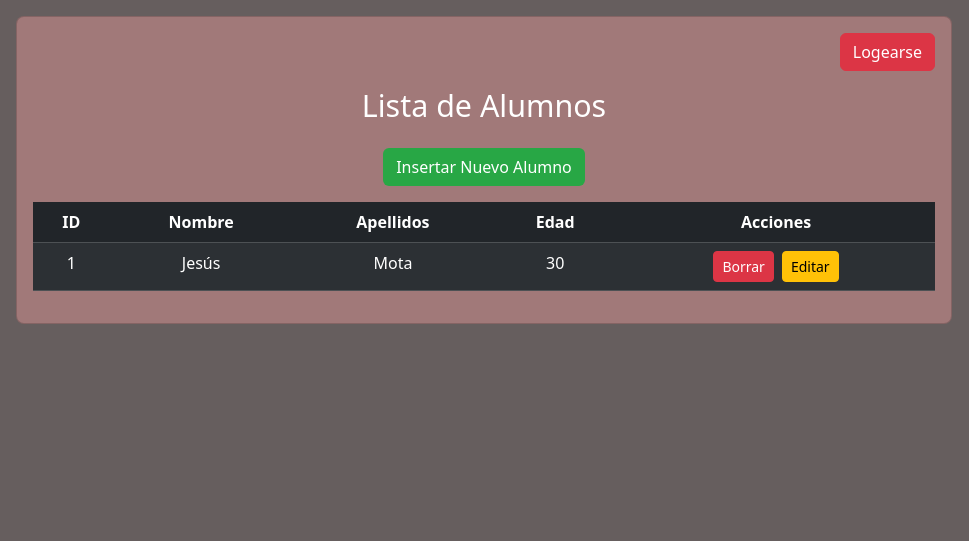
Test: Personas component › permite abrir el formulario de edición
Expected: the text "Jesús" is shown, [110, 242, 292, 290]
Click the button "Editar" at (810, 266), box [782, 250, 839, 282]
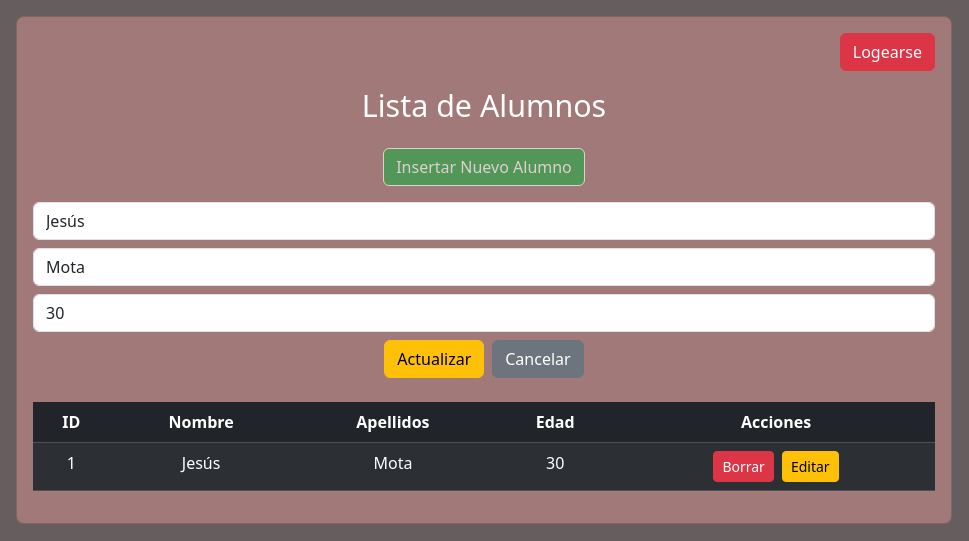
Expected: the 1st field showing "Jesús" is shown, [33, 202, 935, 240]
Expected: the 2nd field showing "Mota" is shown, [33, 248, 935, 286]
Expected: the number field showing "30" is shown, [33, 294, 935, 332]
